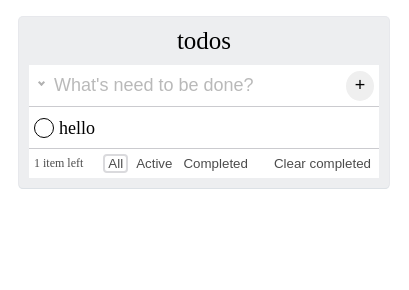
Test: Filter should be change › tasks should be hide/open wheh the filter changes
Expected: the number of elements with test id "task" is 1, [29, 107, 379, 149]
Type "new task" into the field with test id "todolist input" at (182, 86), box [29, 65, 336, 106]
Click the button with test id "add a new task btn" at (360, 86), box [346, 70, 374, 100]
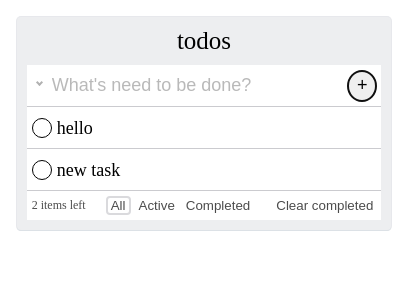
Now the number of elements with test id "task" is 2, box [27, 107, 381, 149]; [27, 149, 381, 191]
Type "new task 2" into the field with test id "todolist input" at (182, 86), box [27, 65, 338, 106]
Click the button with test id "add a new task btn" at (362, 86), box [348, 70, 376, 100]
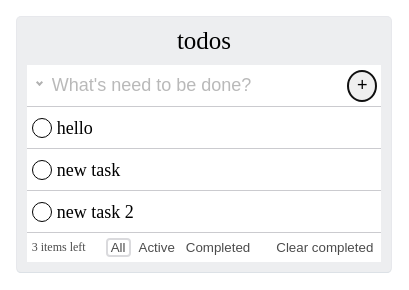
Now the number of elements with test id "task" is 3, box [27, 107, 381, 149]; [27, 149, 381, 191]; [27, 191, 381, 233]
Click the checkbox with test id "checkbox task" next to "hello" at (42, 128), box [32, 118, 52, 138]
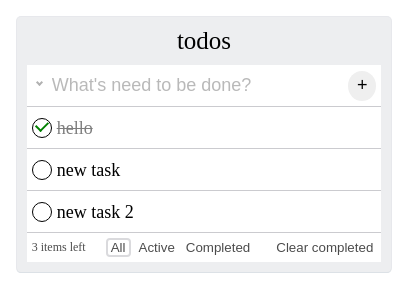
Now the checkbox with test id "checkbox task" next to "hello" is checked, box [32, 118, 52, 138]
Click the button with test id "filter active" at (157, 248), box [136, 238, 178, 257]
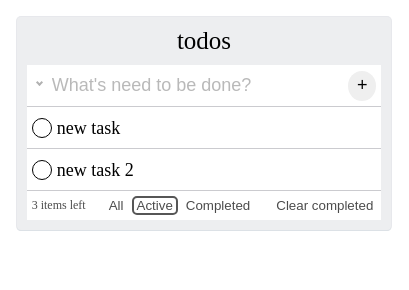
Now the number of elements with test id "task" is 2, box [27, 107, 381, 149]; [27, 149, 381, 191]
Click the button with test id "filter completed" at (218, 206), box [183, 196, 253, 215]
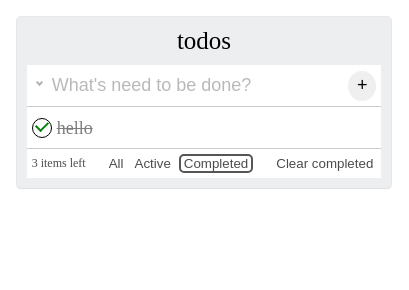
Now the number of elements with test id "task" is 1, box [27, 107, 381, 149]
Click the button with test id "filter all" at (116, 164), box [106, 154, 126, 173]
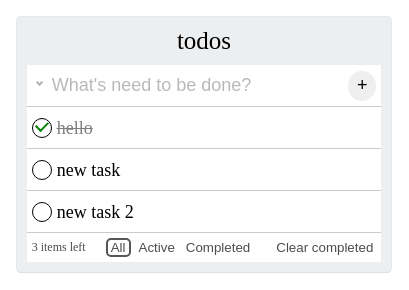
Now the number of elements with test id "task" is 3, box [27, 107, 381, 149]; [27, 149, 381, 191]; [27, 191, 381, 233]
